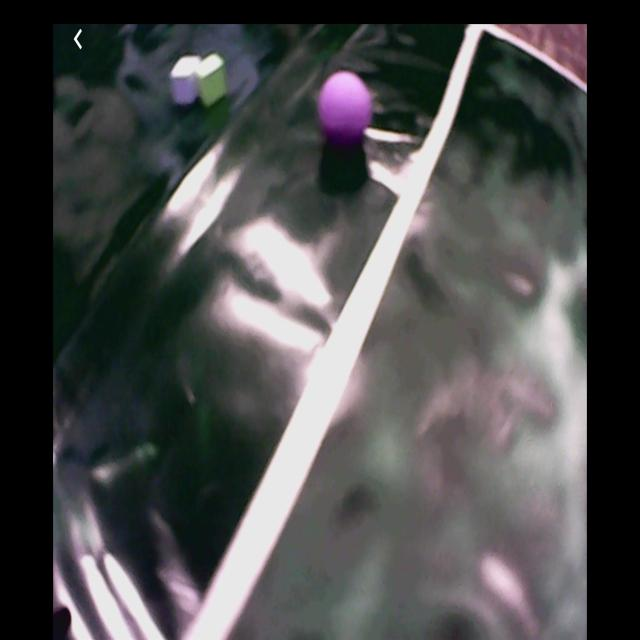ball: (322, 70, 371, 150)
